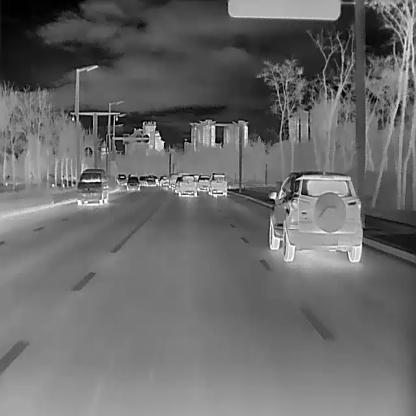car: (268, 170, 362, 261), (75, 168, 108, 206), (208, 171, 227, 195), (178, 173, 197, 195), (126, 175, 140, 190), (197, 173, 209, 190), (116, 173, 126, 185), (146, 174, 156, 185), (159, 175, 169, 186), (174, 176, 180, 192), (138, 175, 146, 185)
